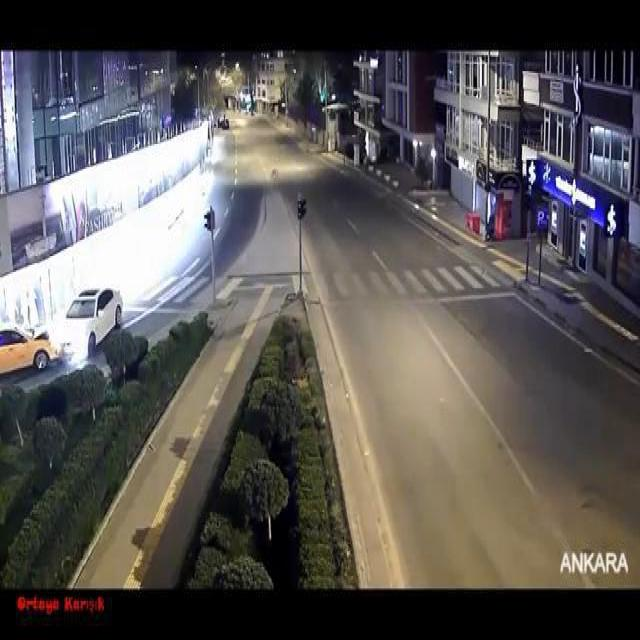moderate: (1, 284, 128, 386)
